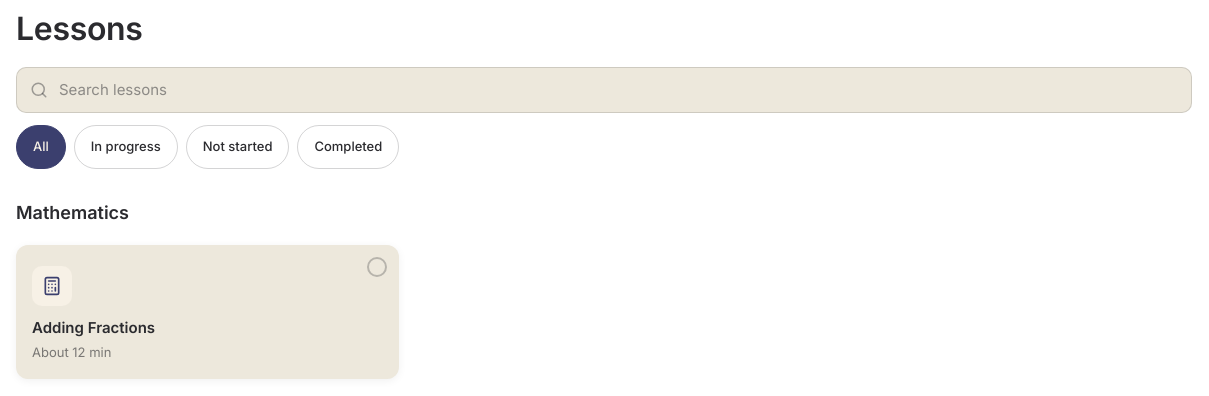
Scenario: the empty state names what is actually narrowing the list › does not blame a search the child never made
The image size is (1209, 396).
Click the button "Completed" at (348, 147), box left=297, top=125, right=399, bottom=169
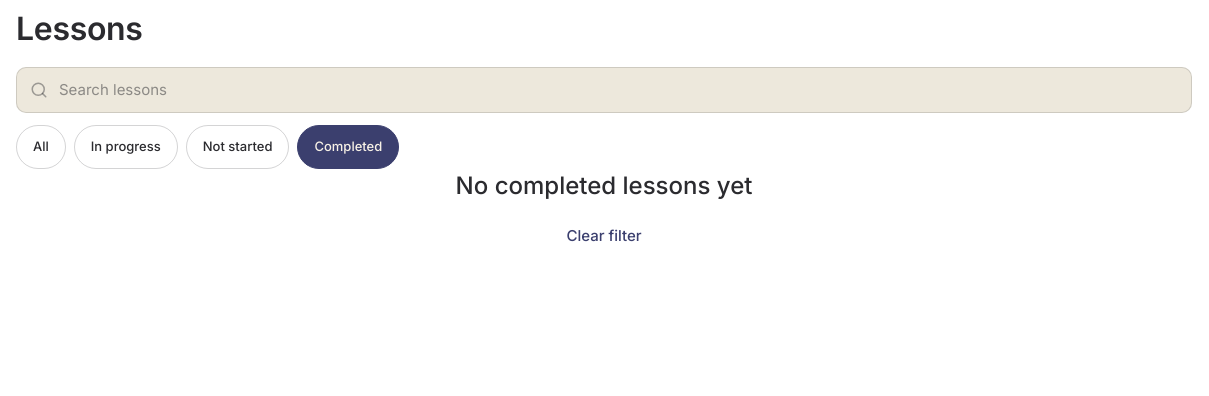
Now the text "No completed lessons yet" is shown, box left=456, top=170, right=752, bottom=203
